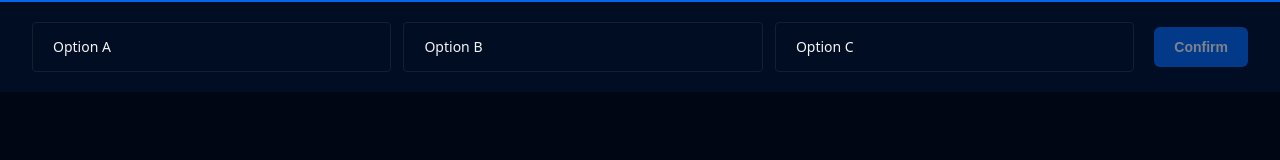
Test case: CoDecisionBarComponent › enables confirm after selecting an option
Click the element with class "co-decision-bar__option" showing "Option A" at {"x": 212, "y": 47}, box [32,22,391,72]
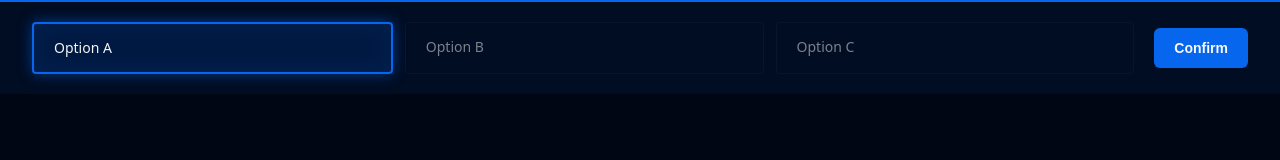
Expected: the button with class "co-decision-bar__confirm" is enabled, [1154,28,1248,68]
